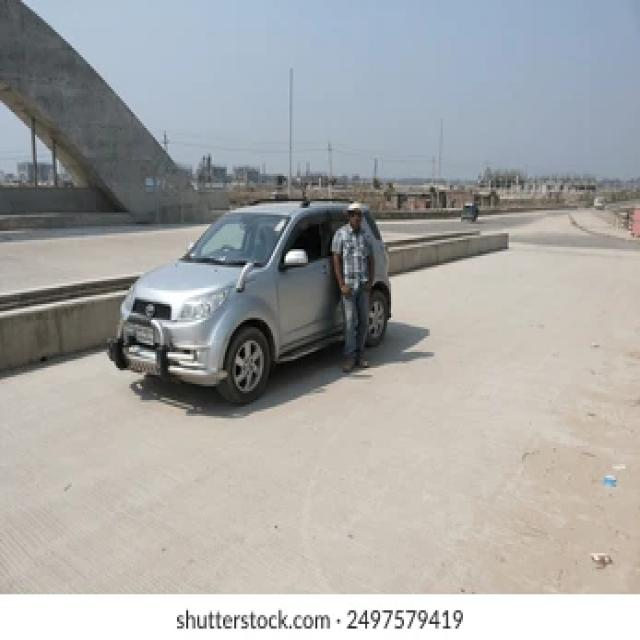car: (114, 180, 397, 387)
